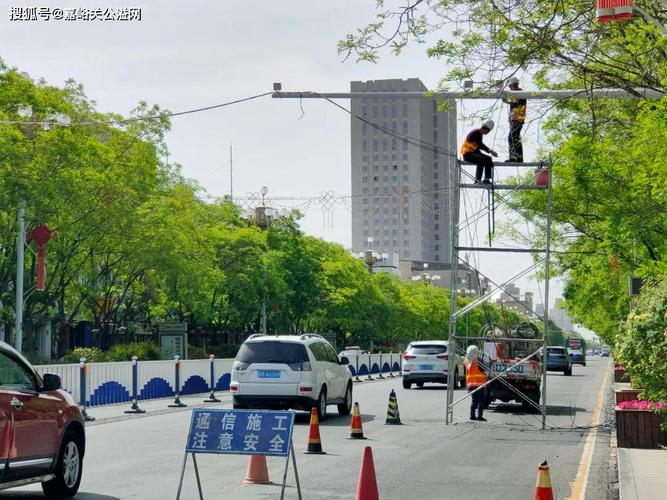bus: (567, 338, 585, 364)
car: (229, 334, 354, 415), (401, 341, 452, 388), (542, 346, 572, 373)
person: (459, 123, 500, 186), (501, 77, 526, 161), (463, 345, 488, 423)
truck: (480, 320, 540, 409)
